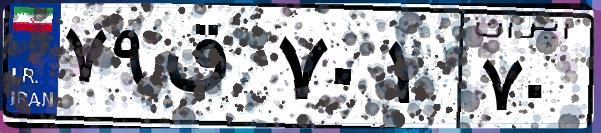0: (330, 28, 385, 110), (525, 38, 570, 115)
1: (385, 28, 445, 110)
7: (270, 28, 330, 110), (57, 26, 110, 100), (475, 38, 525, 113)
9: (110, 28, 158, 98)
ق: (158, 20, 270, 120)
